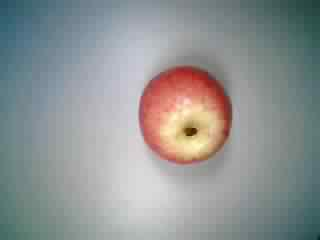apple: (137, 67, 242, 169)
